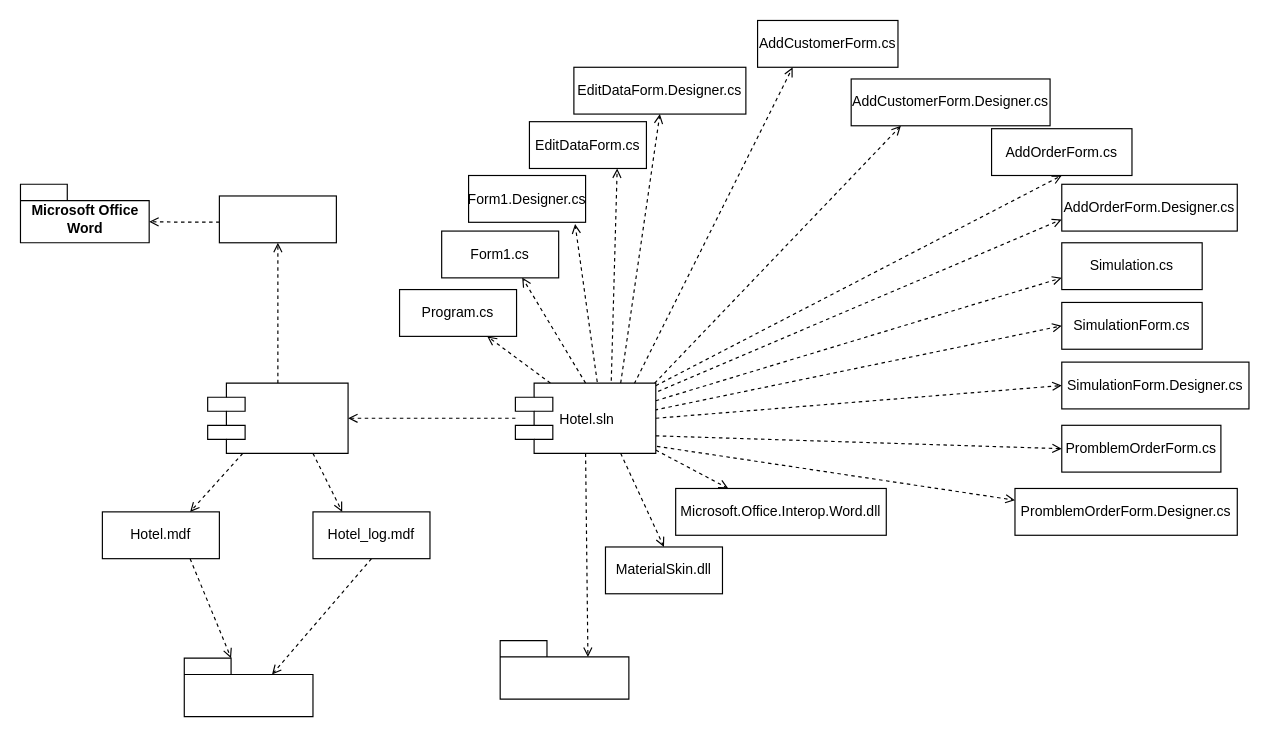
This 1269x737 diagram has some shape labels left out. The shapes that lost their labels are listed below. From the top down, each one's box as (x1, y1, x2, y2) in pixels, then its label:
(218, 195, 336, 243): *.docx
(207, 382, 348, 453): Hotel.exe
(183, 657, 313, 717): Microsoft SQL Server 2017
(499, 639, 629, 699): Visual studio 2017
